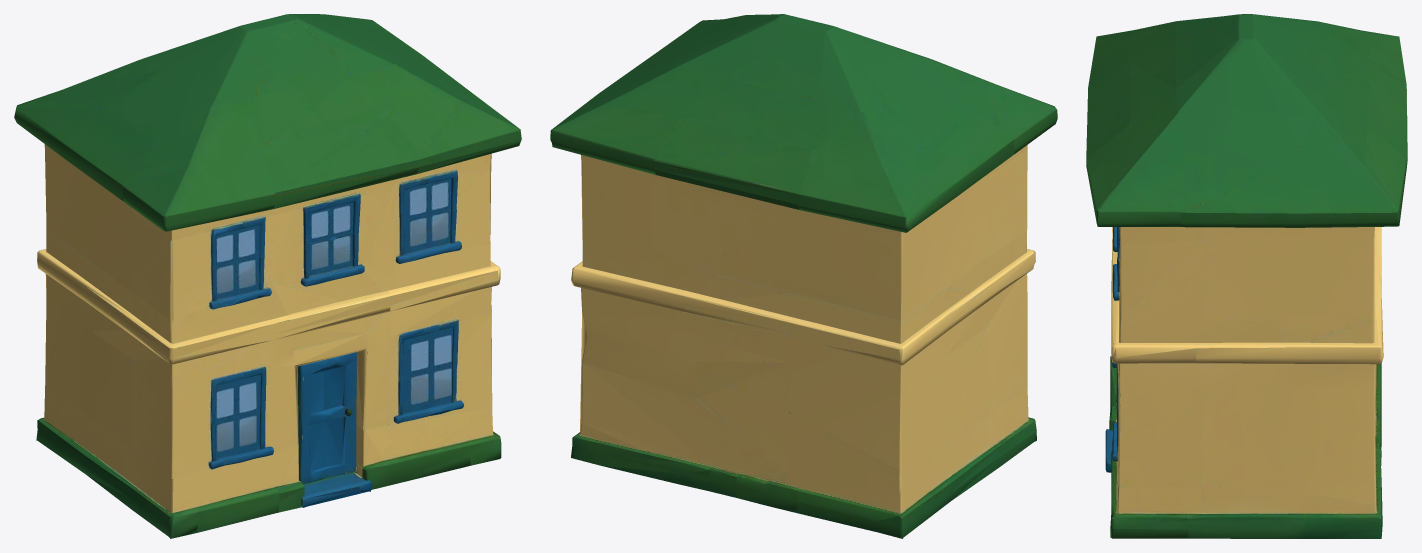
Rendered from simple-house-b.glb.
The picture shows the model from 3 angles, left to right: view 1: azimuth 30°, elevation 25°; view 2: azimuth 150°, elevation 25°; view 3: azimuth 270°, elevation 25°; orthographic projection.
Size of the model in its own units: 0.8867 by 1 by 0.6777.
Materials: 1 (1 with a texture image).
